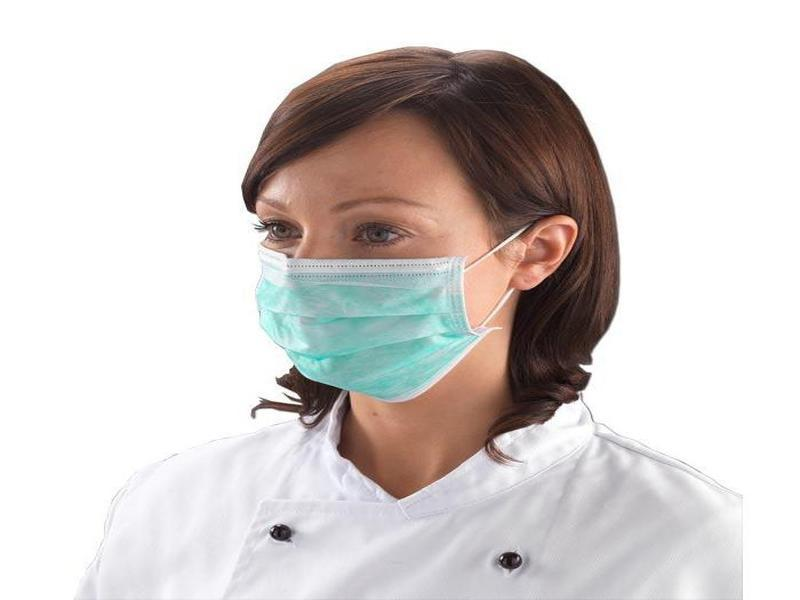with_mask: (236, 45, 622, 403)
